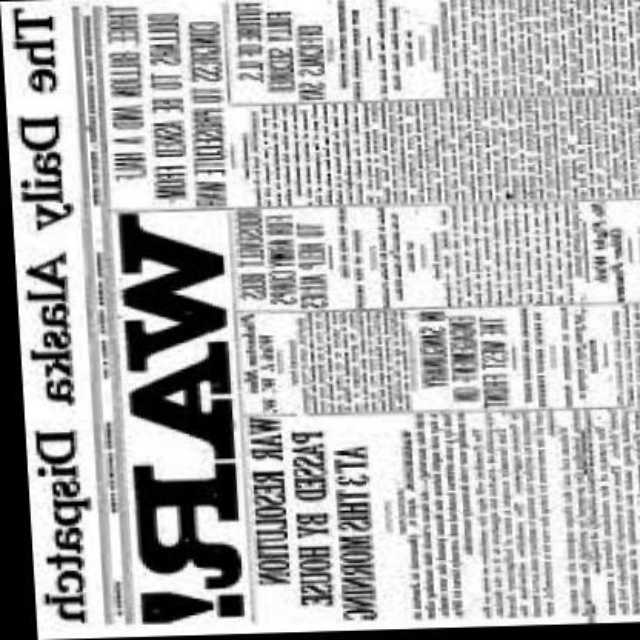trash: (2, 0, 638, 638)
